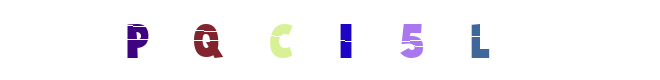5: (333, 0, 413, 80)
C: (238, 0, 318, 80)
I: (292, 0, 372, 80)
L: (424, 0, 504, 80)
P: (167, 0, 247, 80)
Q: (185, 0, 265, 80)
